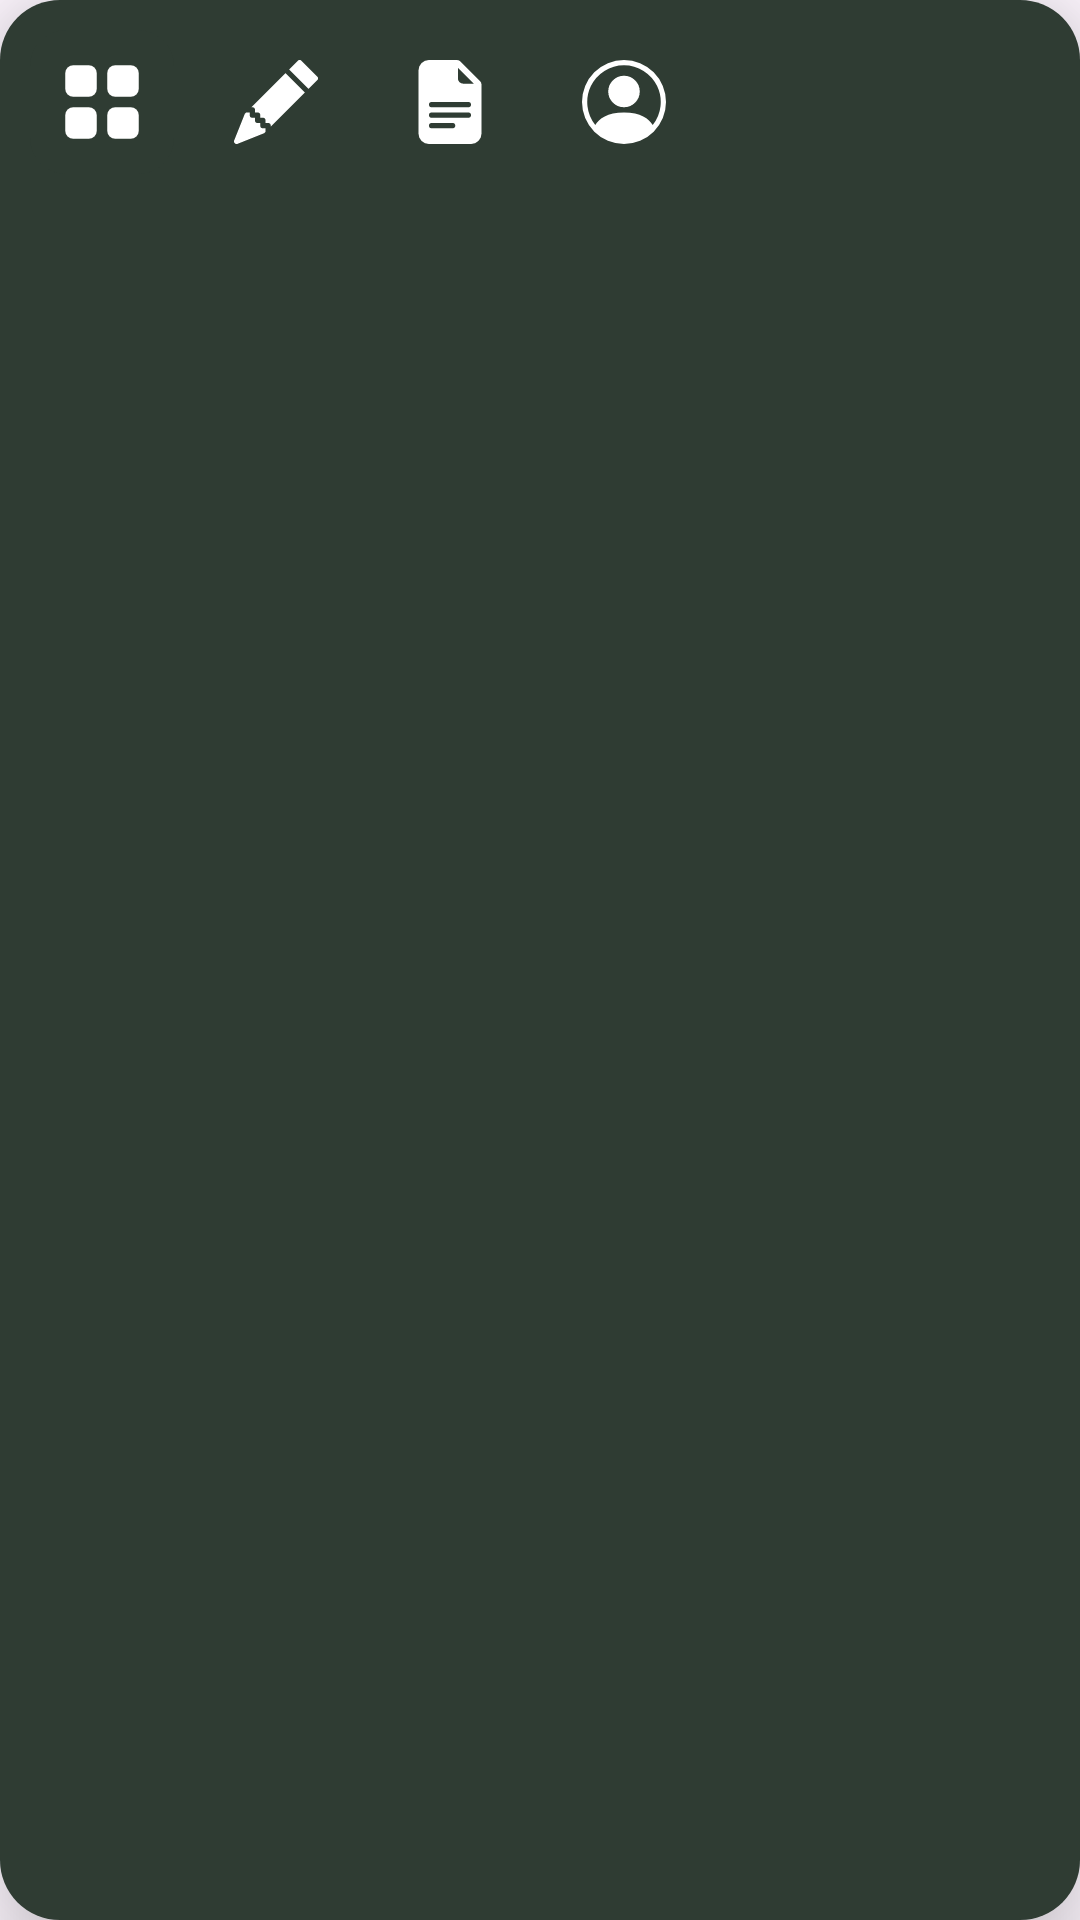

Point at icon controls on the screen. Image size 1080 × 1920, points as point (x, y).
Create: point (276, 102)
Home: point (102, 102)
Laporan: point (450, 102)
Profil: point (624, 102)
